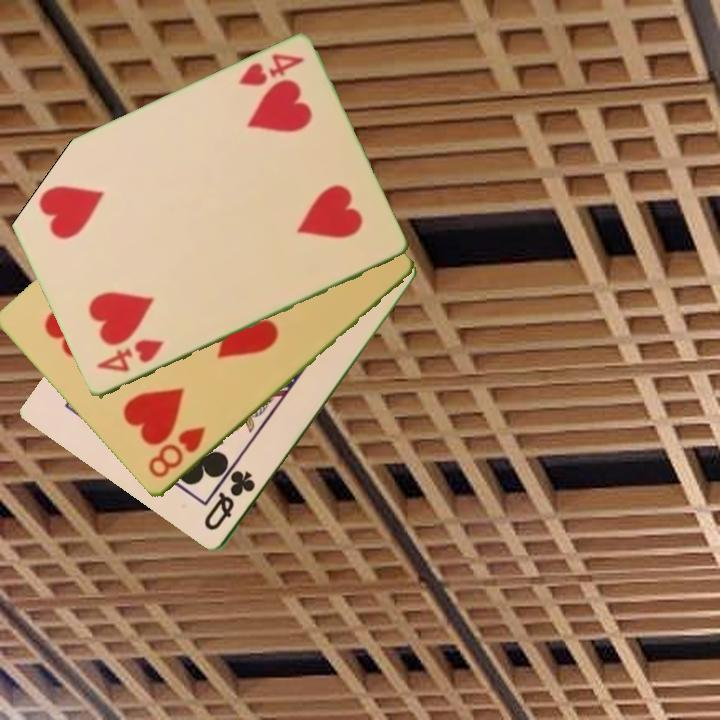4h: (93, 336, 167, 376), (235, 50, 307, 90)
8h: (144, 423, 209, 482)
Qc: (200, 466, 259, 535)
